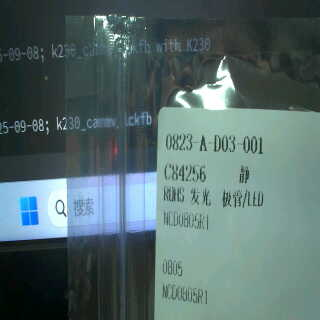LED: (187, 185, 270, 206)
